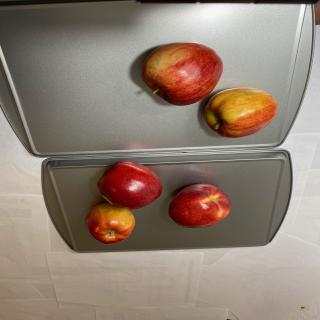Apple: (141, 41, 223, 106), (205, 87, 278, 138), (96, 160, 162, 210), (168, 183, 231, 228), (85, 202, 135, 245)
